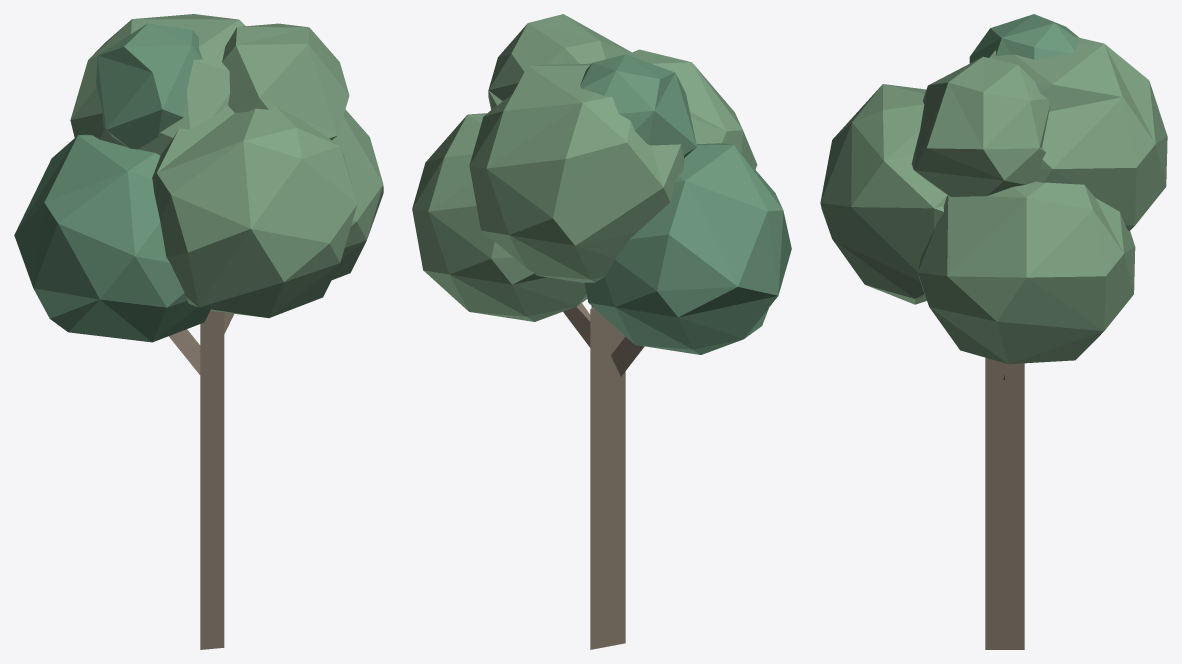
Rendered from batch-c-street-tree.glb.
The picture shows the model from 3 angles, left to right: view 1: azimuth 30°, elevation 25°; view 2: azimuth 150°, elevation 25°; view 3: azimuth 270°, elevation 25°; orthographic projection.
Visible parts, largest first — view 1: material_0; view 2: material_0; view 3: material_0.
Boxes of the visible parts, bbox=[...] form: material_0: bbox=[14, 14, 383, 649]; material_0: bbox=[412, 14, 791, 649]; material_0: bbox=[820, 14, 1167, 649].
Size of the model in its own units: 3.68 by 6.16 by 3.2.
